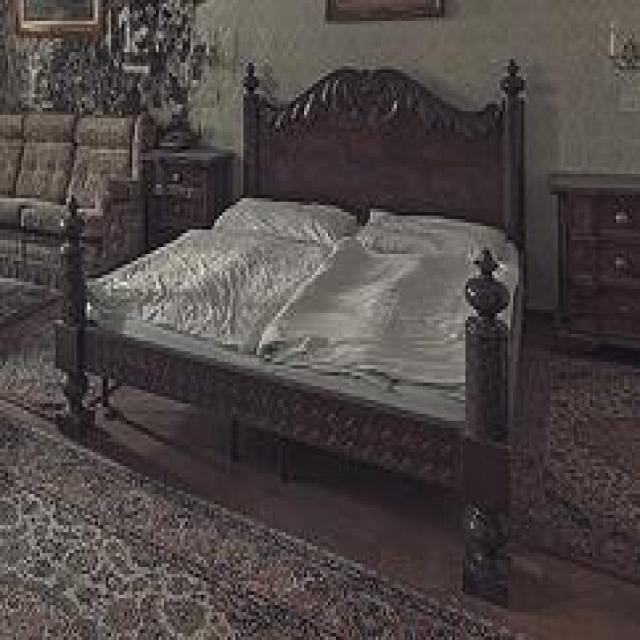bed: (50, 56, 529, 608)
sofa: (0, 104, 156, 289)
